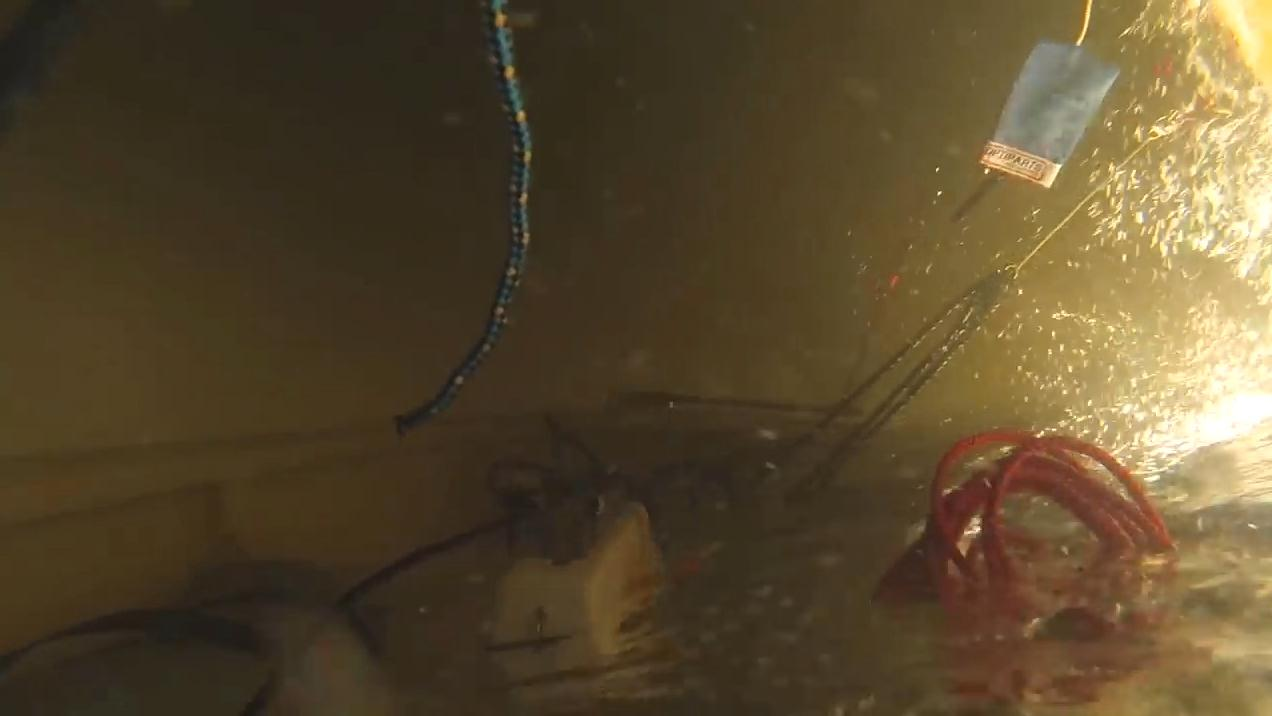boat: (0, 3, 1272, 716)
underwater: (0, 0, 1272, 716)
